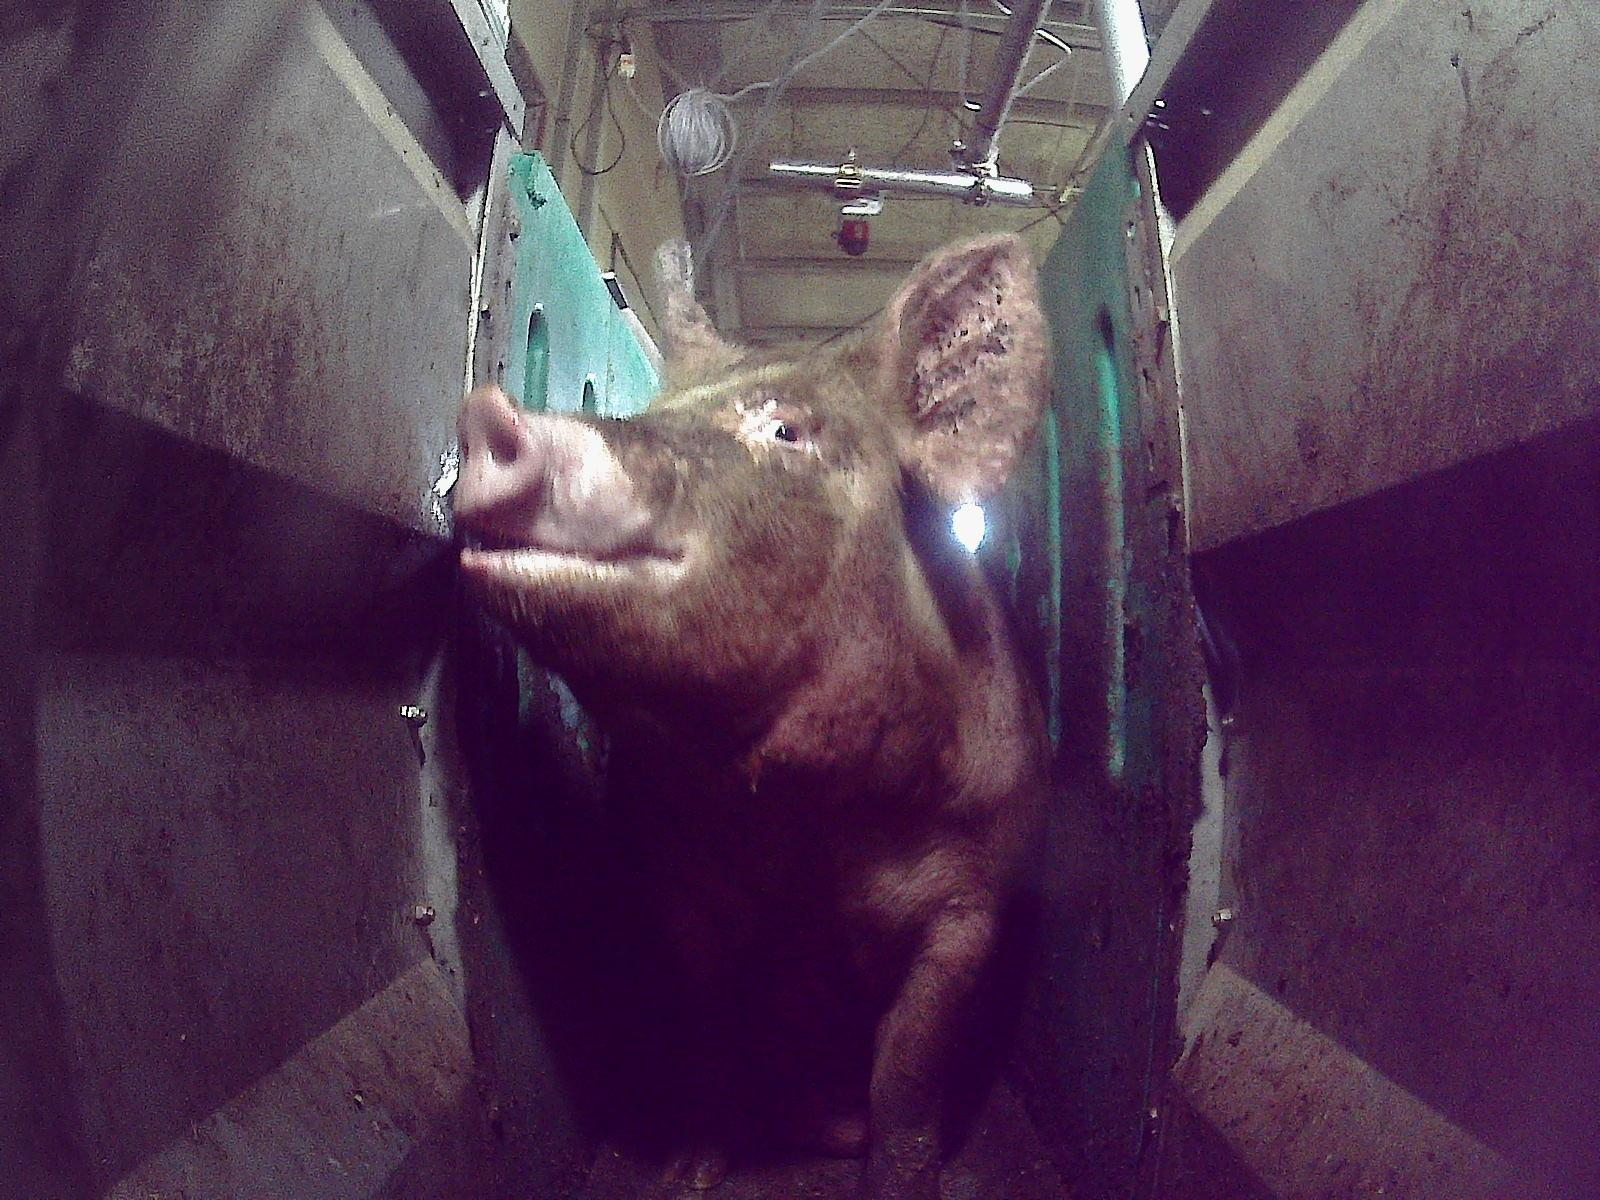Face: (446, 344, 937, 816)
